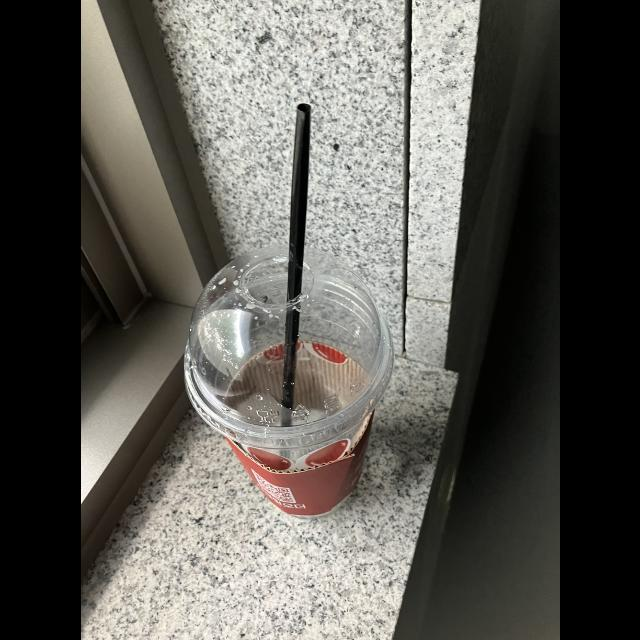plastic_cup: (176, 243, 394, 521)
plastic_cup_lid: (180, 246, 394, 449)
straw: (272, 100, 316, 457)
